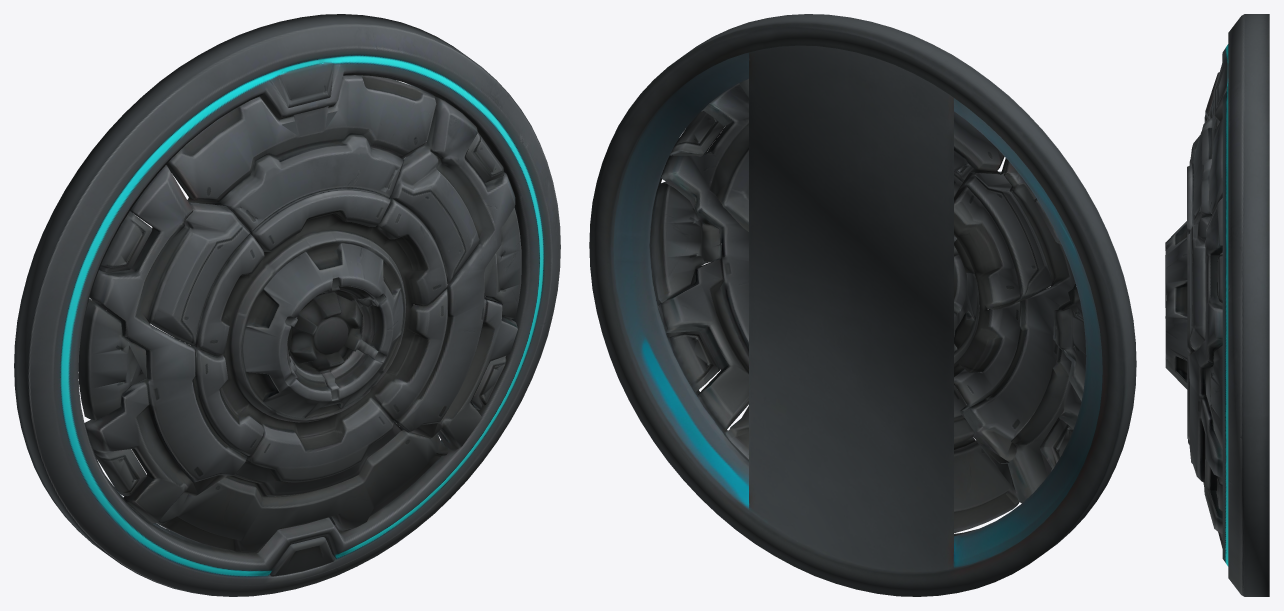
File: selected.fbx
3 renders of one model, left to right at view 1: azimuth 30°, elevation 25°; view 2: azimuth 150°, elevation 25°; view 3: azimuth 270°, elevation 25°, orthographic. The views are drawn at different scales.
Parts seen in each view (by area): view 1: tripo_node_62e19078-a56a-42aa-8106-da46547164f6; view 2: tripo_node_62e19078-a56a-42aa-8106-da46547164f6; view 3: tripo_node_62e19078-a56a-42aa-8106-da46547164f6.
Boxes of the visible parts, bbox=[...] form: tripo_node_62e19078-a56a-42aa-8106-da46547164f6: bbox=[14, 14, 560, 596]; tripo_node_62e19078-a56a-42aa-8106-da46547164f6: bbox=[589, 14, 1136, 596]; tripo_node_62e19078-a56a-42aa-8106-da46547164f6: bbox=[1165, 14, 1269, 596].
Size of the model in its own units: 0.9995 by 0.9995 by 0.1782.
Materials: 1 (1 with a texture image).
